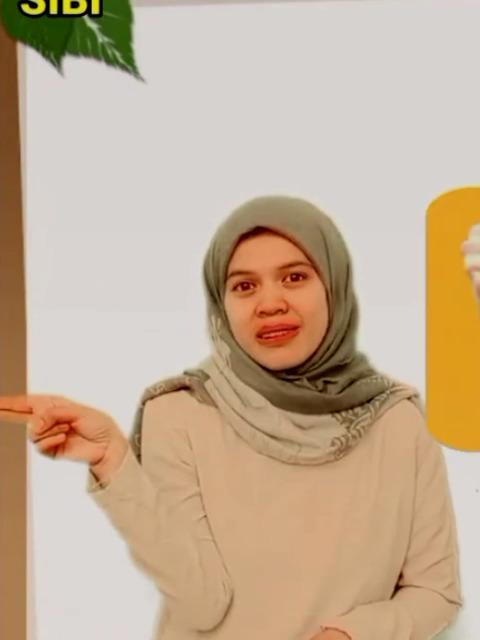H: (0, 391, 112, 467)
